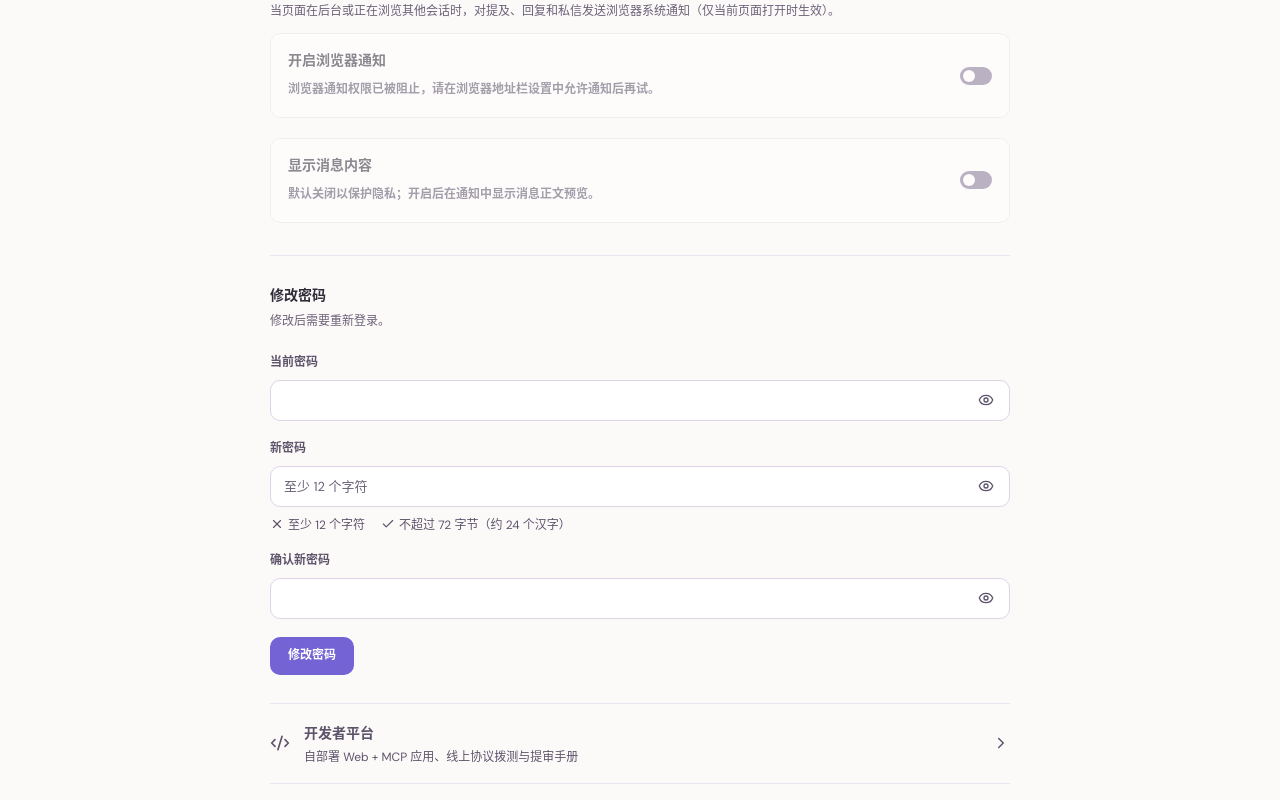
it: account password settings › blocks invalid password changes locally: example-old-password
(page scrolled)
Type "example-old-password" into the password field named "currentPassword" at (640, 400), box x1=270 y1=380 x2=1010 y2=421
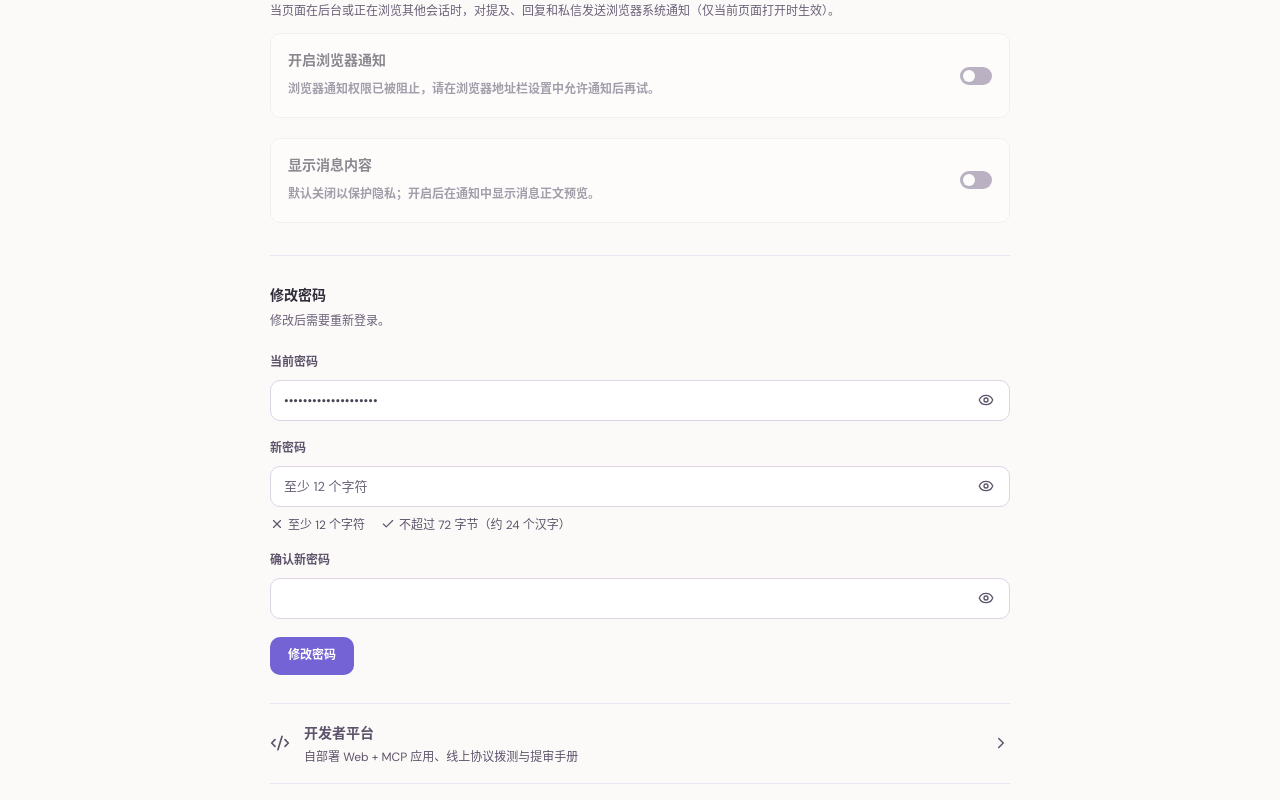
Type "example-old-password" into the password field named "newPassword" at (640, 486), box x1=270 y1=466 x2=1010 y2=507
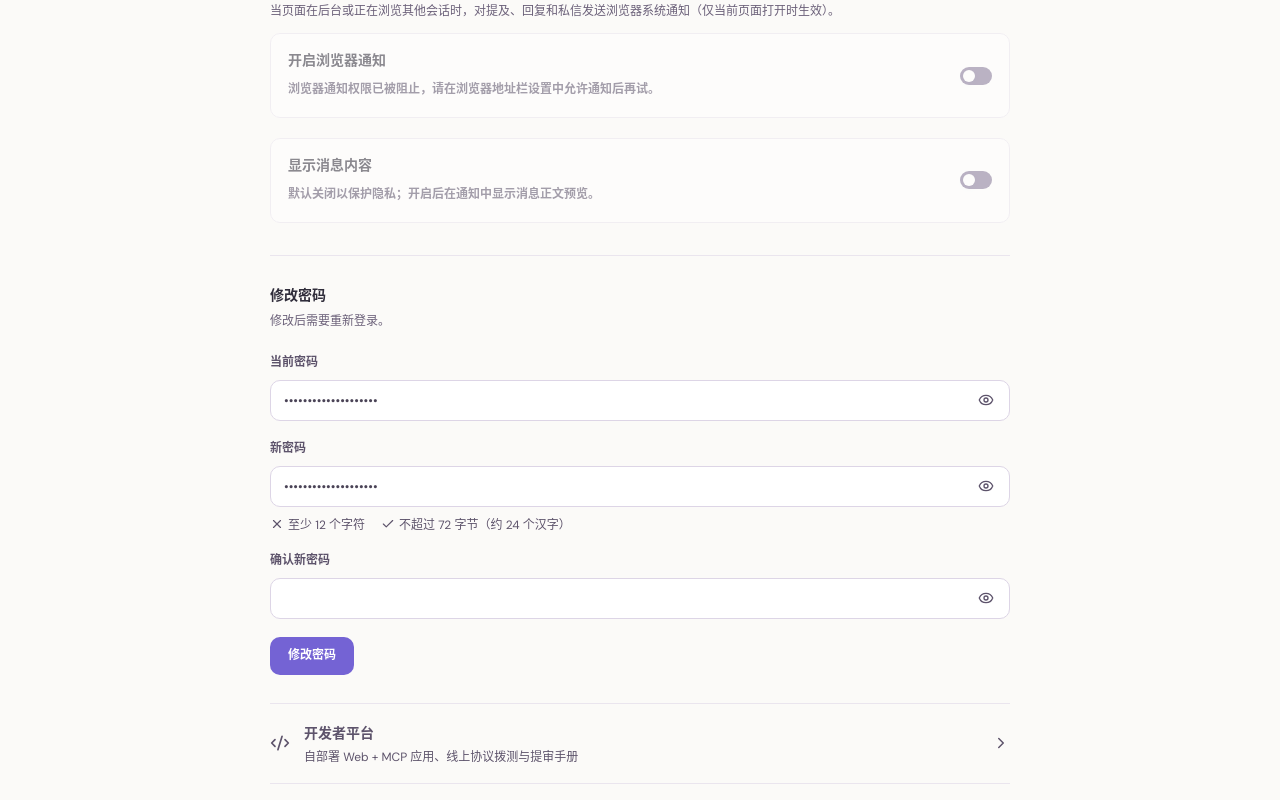
Type "example-old-password" into the password field named "confirmPassword" at (640, 598), box x1=270 y1=578 x2=1010 y2=619
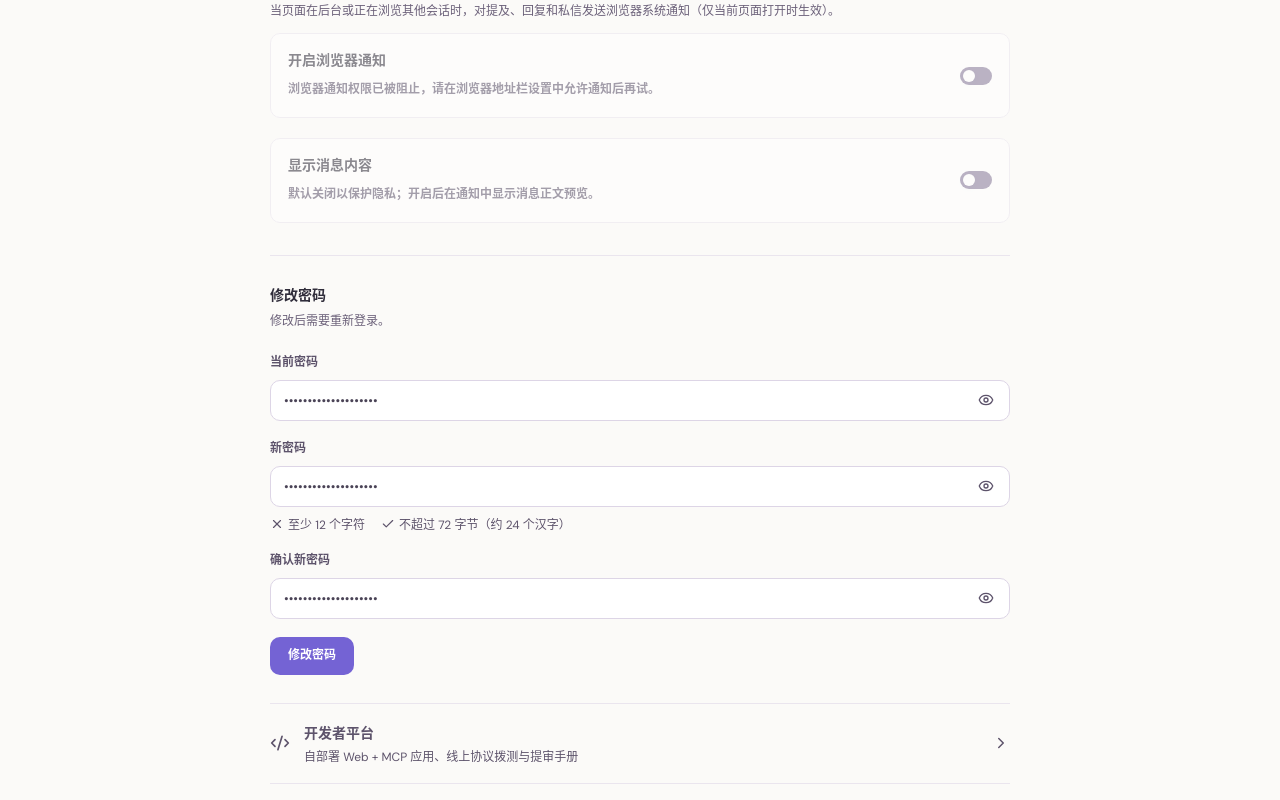
Submit the form, box x1=270 y1=255 x2=1010 y2=675
(page scrolled)
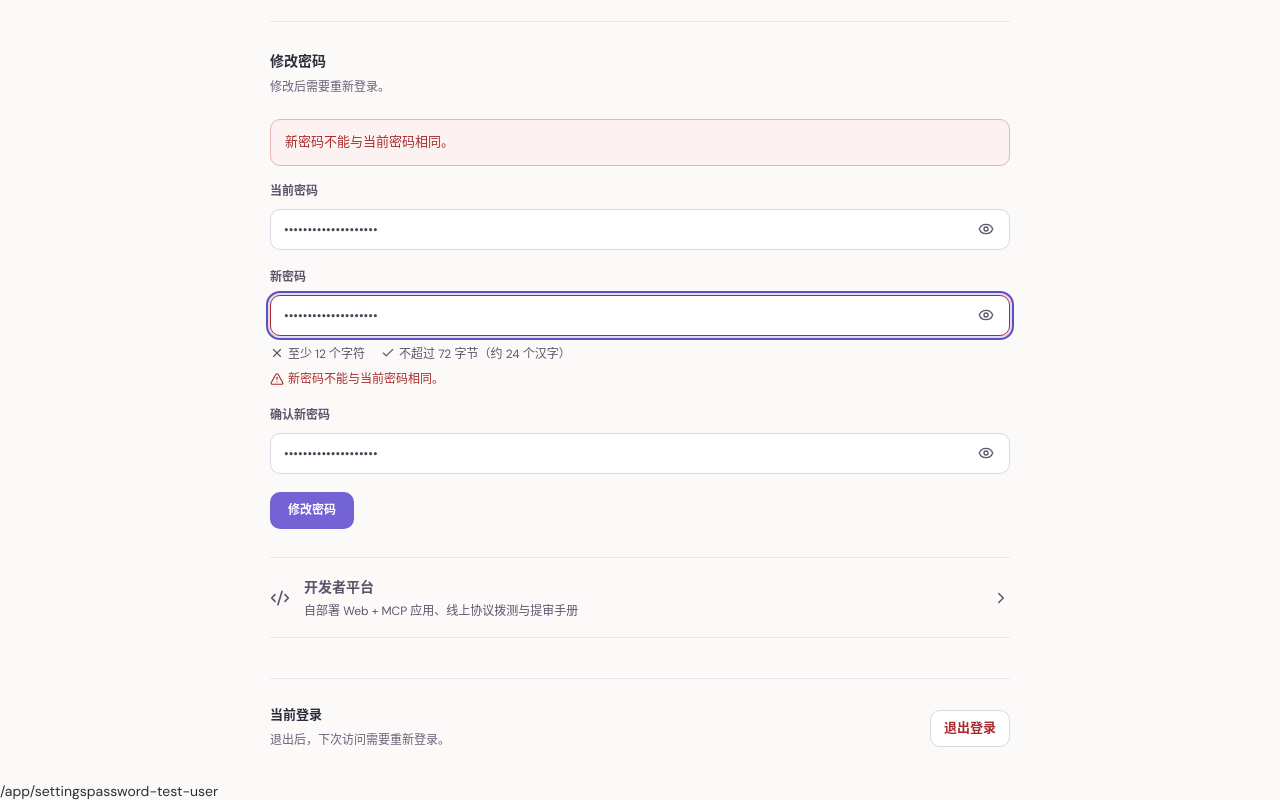
Expected: the text "password-test-user" is shown, x1=87 y1=782 x2=218 y2=799
Now the text "新密码不能与当前密码相同。" is shown, box x1=270 y1=119 x2=1010 y2=166
